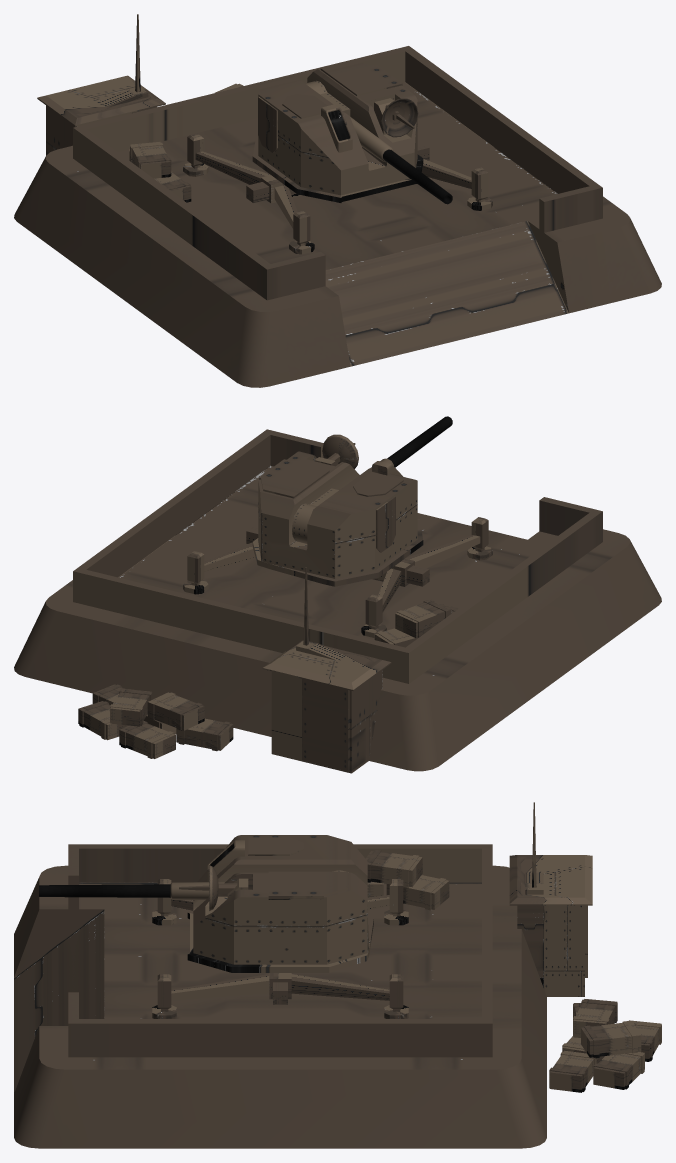
The model's file is Ground_Air_Turret_Level1 1.fbx.
3 views of the same model, one above another, from view 1: azimuth 30°, elevation 25°; view 2: azimuth 150°, elevation 25°; view 3: azimuth 270°, elevation 25° (orthographic). The views are drawn at different scales.
Parts seen in each view (by area): view 1: Base, Turret, Gun, Radar; view 2: Base, Turret, Gun, Radar, Breech; view 3: Base, Turret, Gun, Radar.
Boxes of the visible parts, x1,y1,x2,y2 form: Base: (14, 14, 661, 387); Turret: (252, 61, 423, 202); Gun: (347, 114, 452, 204); Radar: (381, 98, 418, 137); Base: (14, 429, 661, 773); Turret: (252, 451, 423, 586); Gun: (370, 416, 452, 468); Radar: (322, 434, 358, 469); Breech: (292, 488, 338, 543); Base: (14, 802, 661, 1148); Turret: (187, 835, 373, 972); Gun: (39, 882, 224, 899); Radar: (179, 865, 237, 910).
Size of the model in its own units: 5.83 by 1.87 by 4.8.
